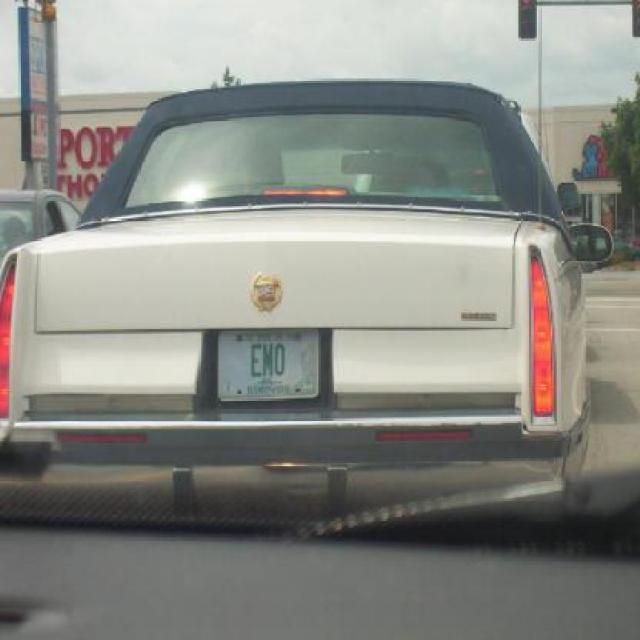License-Plates: (210, 316, 326, 408)
